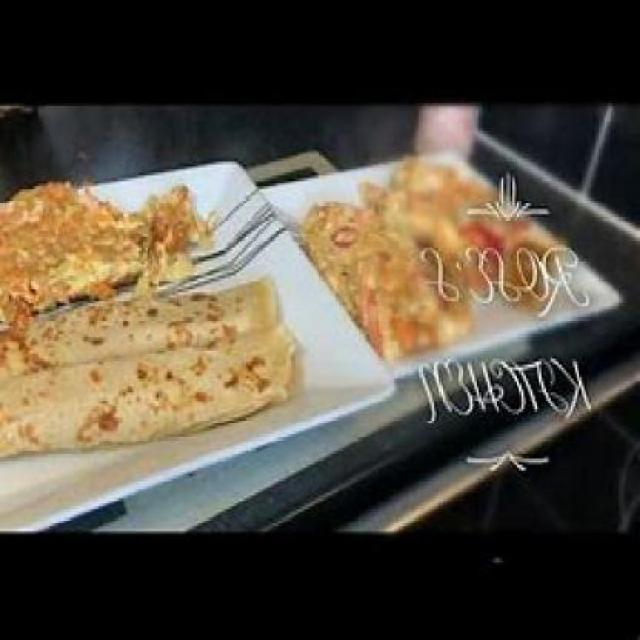omelette: (2, 164, 208, 308)
pancakes: (7, 258, 295, 468)
